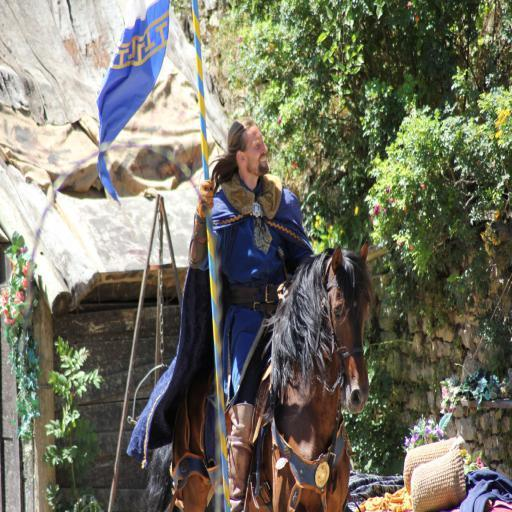horse: (138, 239, 376, 512)
